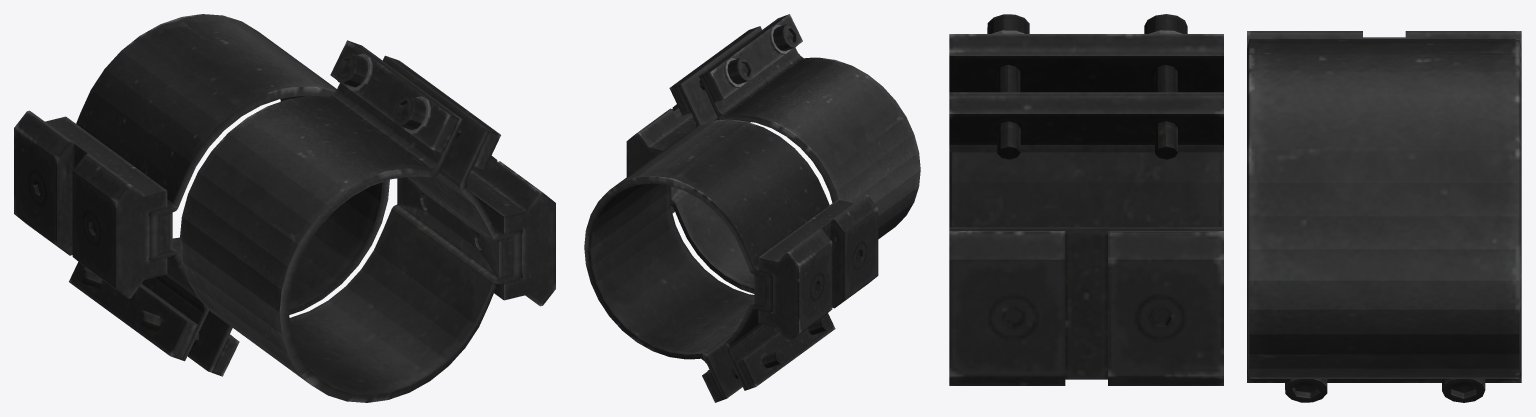
3 renders of one model, left to right at view 1: azimuth 30°, elevation 25°; view 2: azimuth 150°, elevation 25°; view 3: azimuth 270°, elevation 25°, orthographic. The views are drawn at different scales.
Parts seen in each view (by area): view 1: TW_5a9fc7e6a2750c0032157184_PZ_Import; view 2: TW_5a9fc7e6a2750c0032157184_PZ_Import; view 3: TW_5a9fc7e6a2750c0032157184_PZ_Import.
Part boxes in pixels (<box>): TW_5a9fc7e6a2750c0032157184_PZ_Import: <box>14,14,555,402</box>; TW_5a9fc7e6a2750c0032157184_PZ_Import: <box>584,14,920,402</box>; TW_5a9fc7e6a2750c0032157184_PZ_Import: <box>949,14,1521,402</box>.
Bounding box in the file's own units: 0.0375 × 0.0416 × 0.0356.
Materials: 1 (1 with a texture image).
